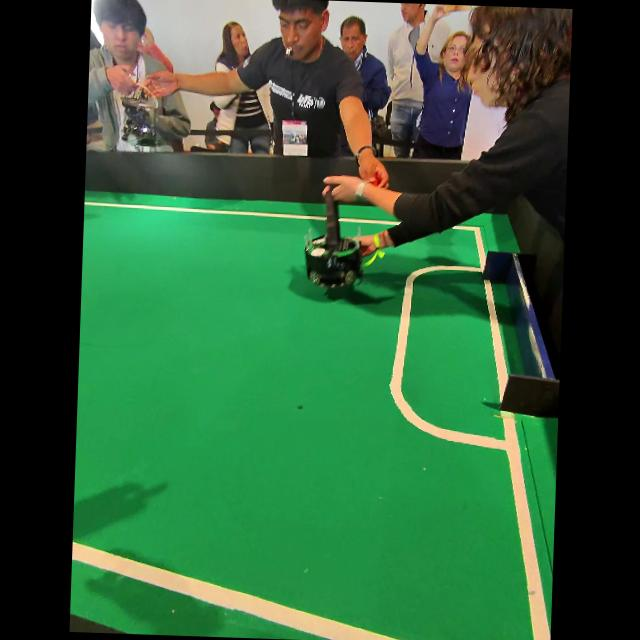goal: (482, 250, 558, 416)
robot: (303, 187, 364, 288)
